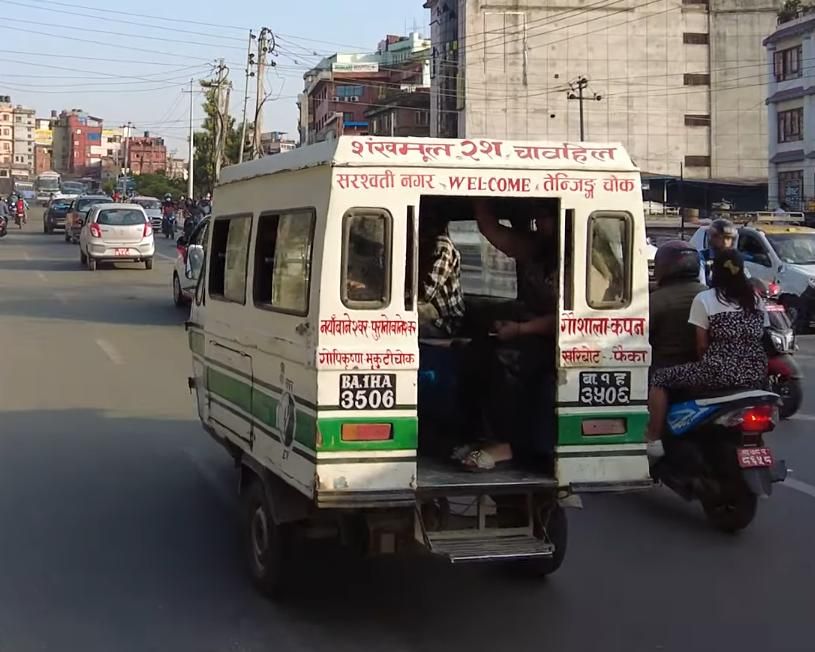car: (74, 199, 159, 278)
scooter: (647, 372, 793, 543)
taxi: (697, 208, 815, 333)
tempo: (170, 135, 659, 601)
